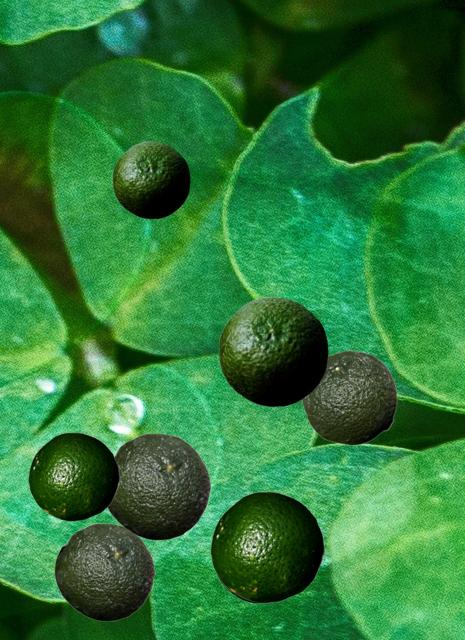calamansi: (210, 491, 324, 602), (218, 296, 327, 406), (107, 433, 210, 539), (54, 523, 154, 620), (301, 350, 396, 444), (28, 432, 119, 520), (112, 141, 189, 218)
